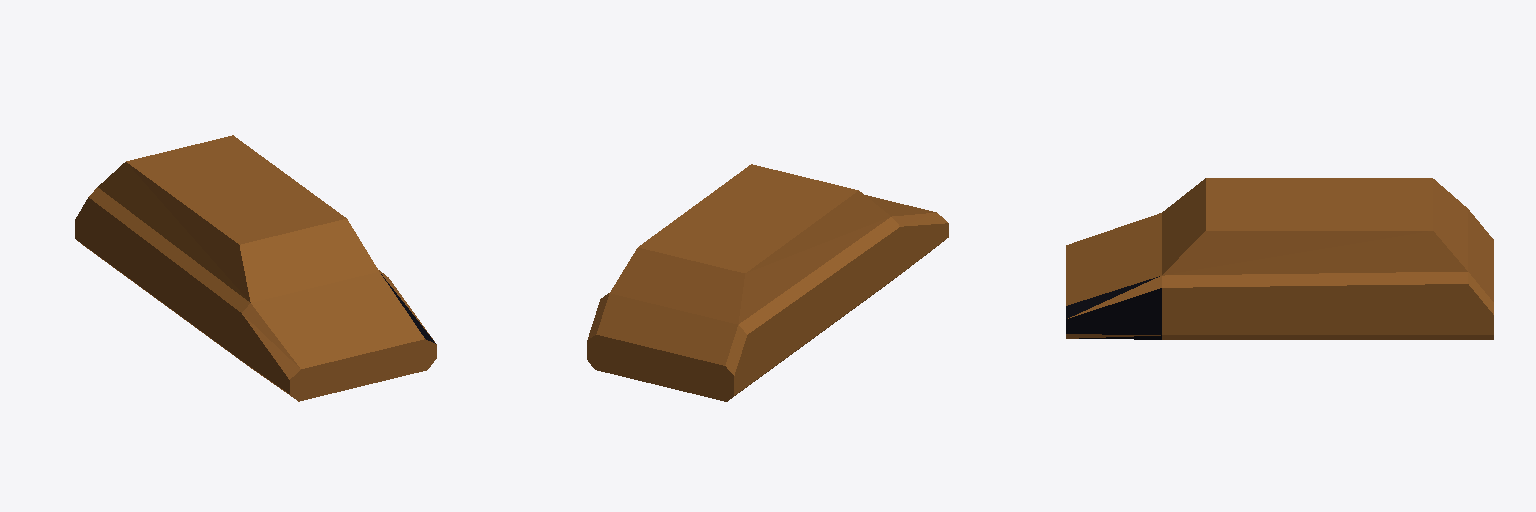
File: vehicle_wagon_simple.obj
3 renders of one model, left to right at view 1: azimuth 30°, elevation 25°; view 2: azimuth 150°, elevation 25°; view 3: azimuth 270°, elevation 25°, orthographic.
Size of the model in its own units: 1.94 by 1.3 by 4.9.